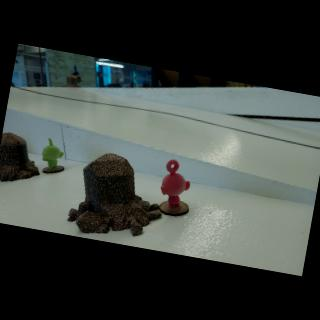teletubby: (161, 160, 190, 209), (42, 138, 64, 173)
